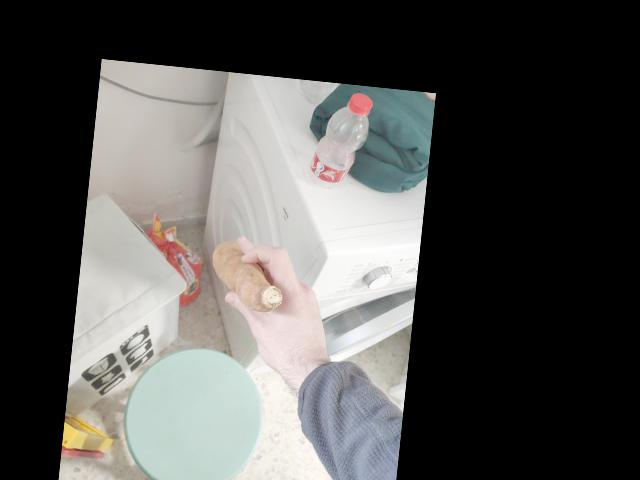sweet_potato: (208, 231, 296, 323)
